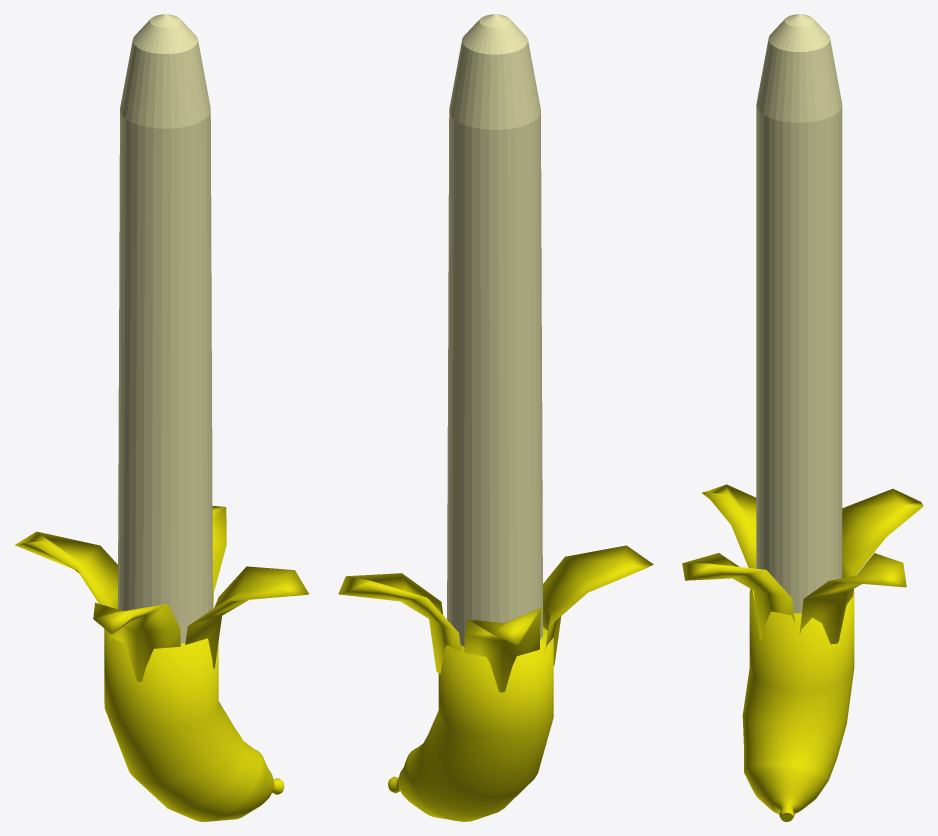
File: swbanana.fbx
The picture shows the model from 3 angles, left to right: view 1: azimuth 30°, elevation 25°; view 2: azimuth 150°, elevation 25°; view 3: azimuth 270°, elevation 25°; orthographic projection. The views are drawn at different scales.
Parts seen in each view (by area): view 1: Cylinder.004, Cylinder.003, Cylinder, Cylinder.001, Cylinder.002; view 2: Cylinder.004, Cylinder.003, Cylinder, Cylinder.002; view 3: Cylinder.004, Cylinder.003, Cylinder.002, Cylinder.001, Cylinder.
Part boxes in pixels (x1=…): Cylinder.004: x1=118, y1=14, x2=212, y2=643; Cylinder.003: x1=104, y1=506, x2=284, y2=821; Cylinder: x1=93, y1=602, x2=180, y2=681; Cylinder.001: x1=185, y1=566, x2=309, y2=668; Cylinder.002: x1=14, y1=531, x2=117, y2=632; Cylinder.004: x1=447, y1=14, x2=542, y2=646; Cylinder.003: x1=338, y1=573, x2=553, y2=821; Cylinder: x1=543, y1=545, x2=653, y2=665; Cylinder.002: x1=464, y1=607, x2=541, y2=692; Cylinder.004: x1=756, y1=14, x2=842, y2=613; Cylinder.003: x1=742, y1=553, x2=906, y2=821; Cylinder.002: x1=842, y1=489, x2=923, y2=577; Cylinder.001: x1=682, y1=553, x2=794, y2=639; Cylinder: x1=701, y1=484, x2=756, y2=568.
Size of the model in its own units: 961 by 3372 by 961.
